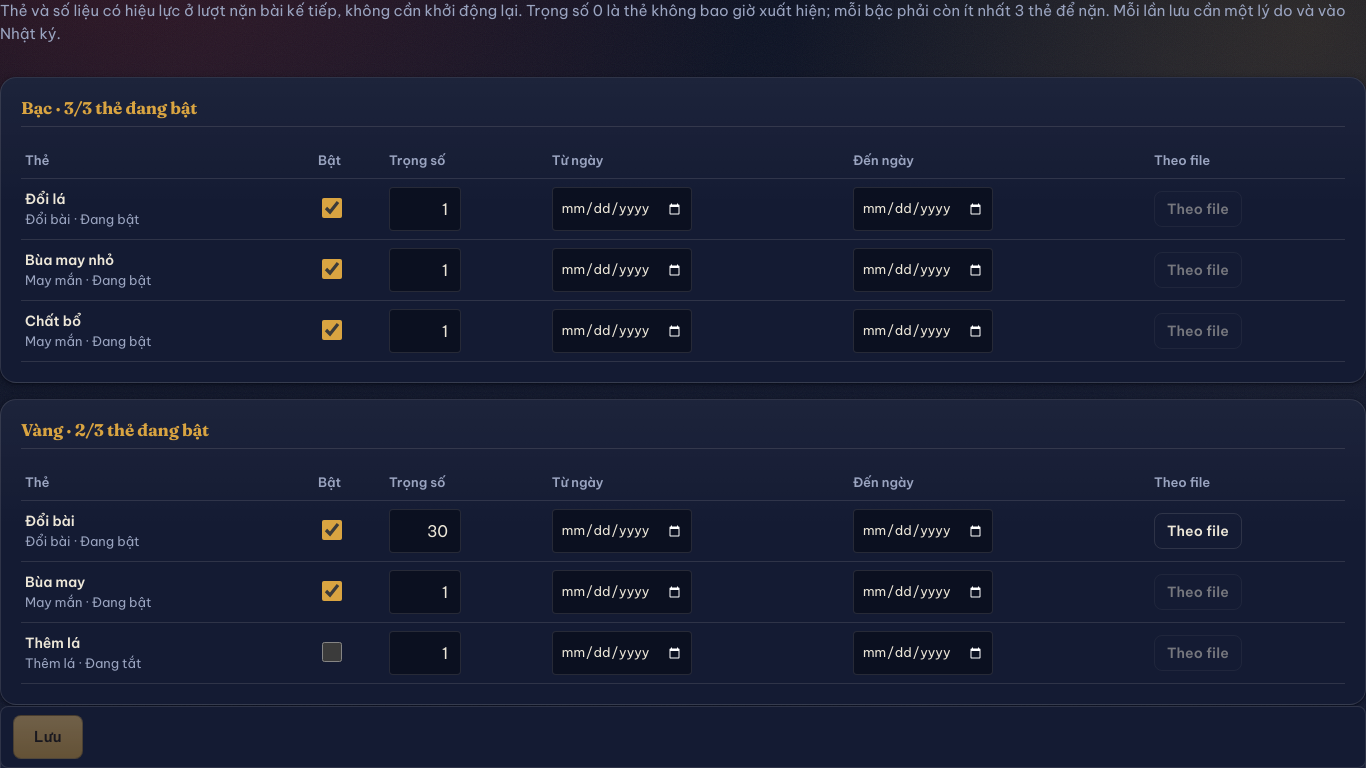
it: ChaosTab › keeps Lưu off until something is edited, then sends only the changed cards, whole, under one reason
Expected: the button "Lưu" is disabled, [13, 715, 82, 759]
Replace the text in the field named "Trọng số của Đổi lá" with "40" at (425, 209), box [389, 187, 461, 231]
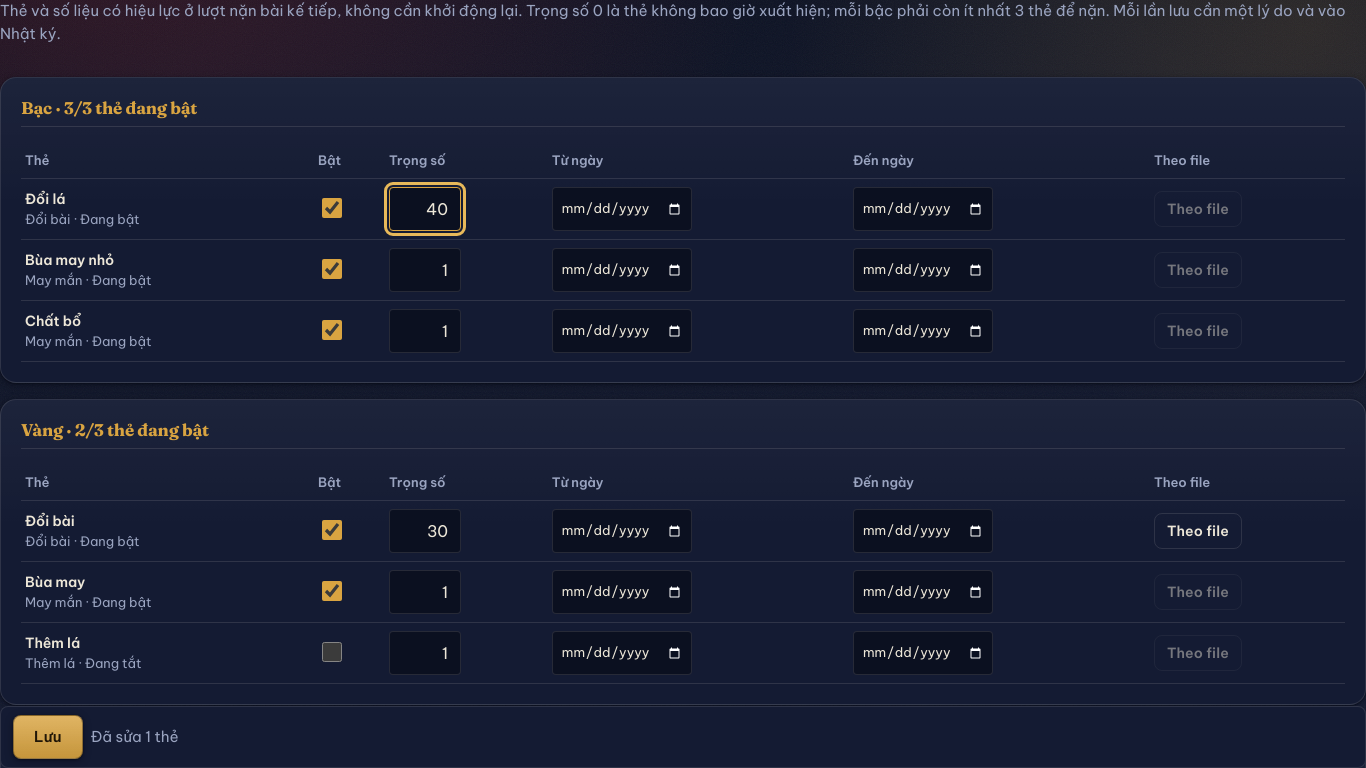
Click the checkbox named "Bật thẻ Bùa may nhỏ" at (332, 268), box [322, 258, 342, 278]
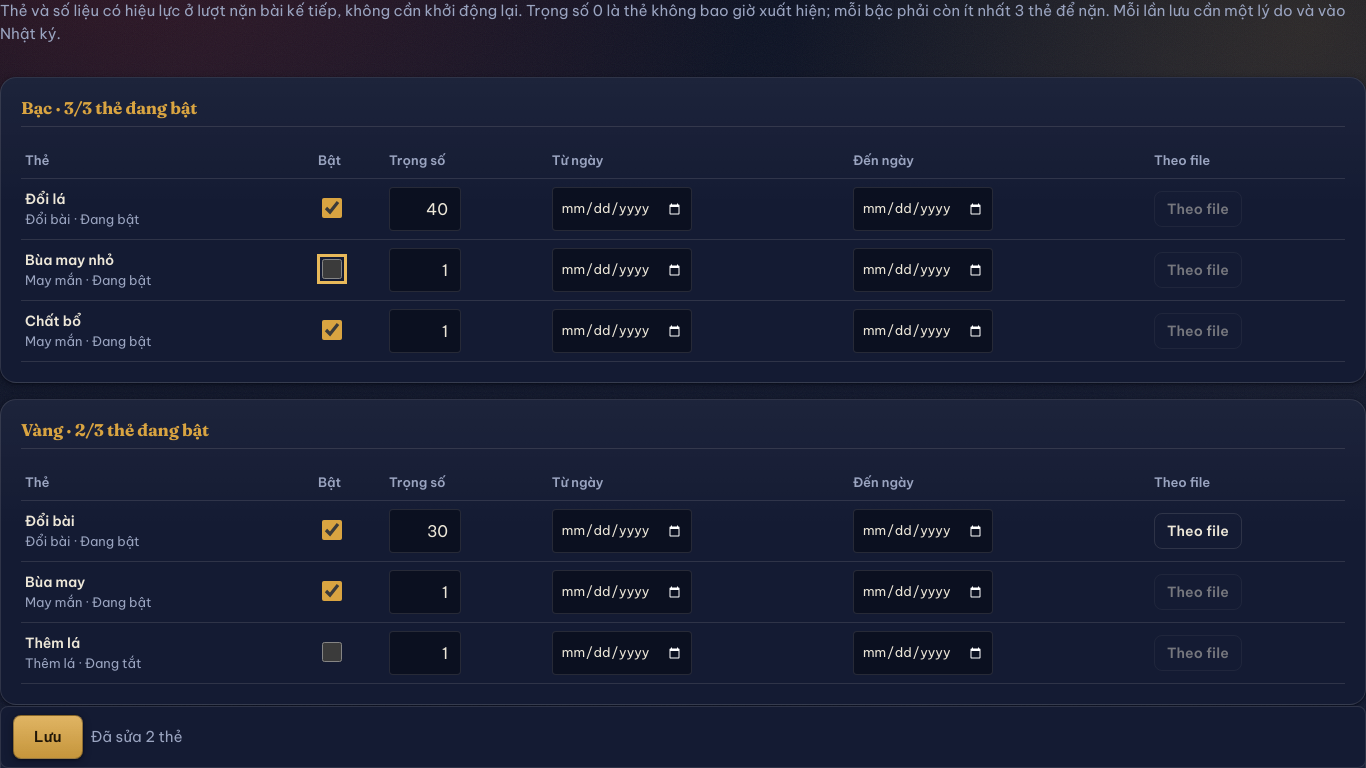
Result: the text "Đã sửa 2 thẻ" is shown at [90, 726, 183, 748]
Click the button "Lưu" at (48, 737), box [13, 715, 82, 759]
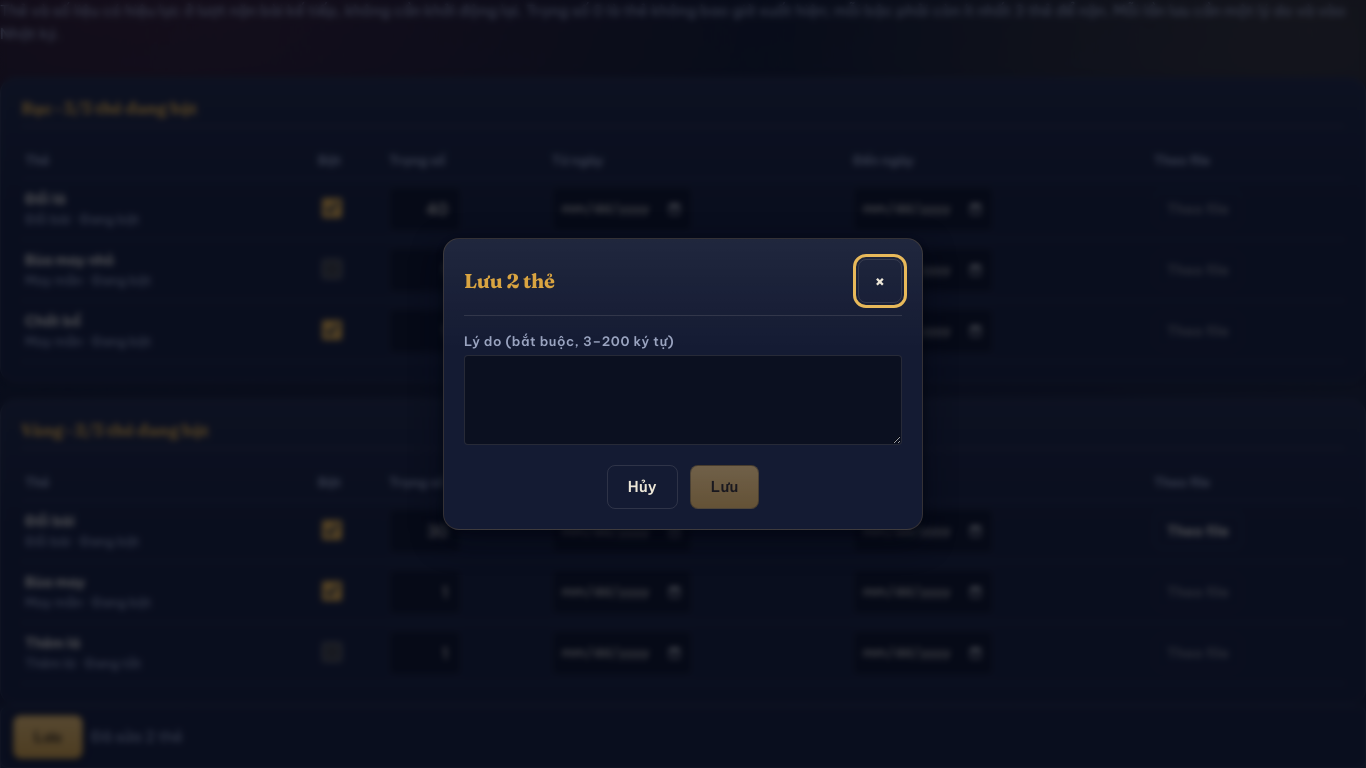
Type "mùa Tết đổi trọng số" into the text box labelled "Lý do (bắt buộc, 3–200 ký tự)" at (683, 400), box [464, 355, 902, 445]
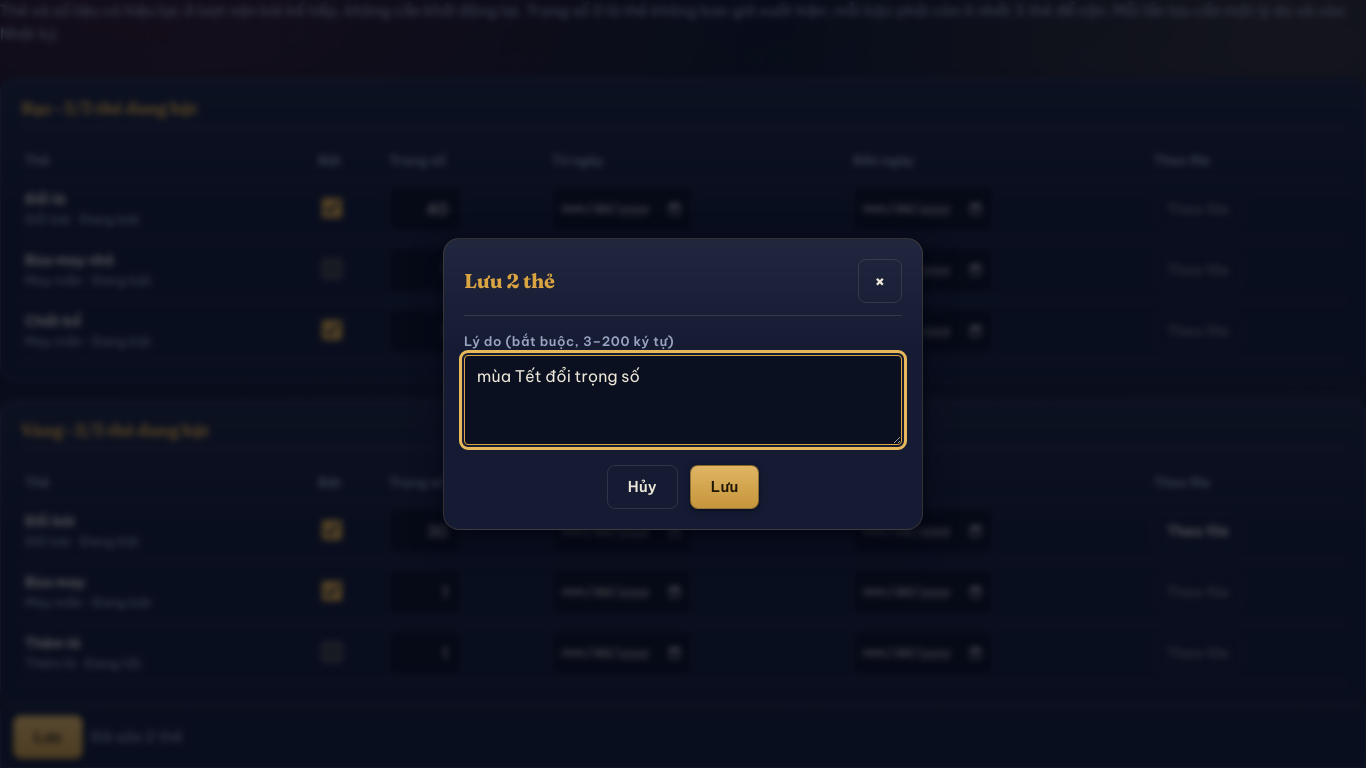
Click the button "Lưu" at (725, 487), box [690, 465, 759, 509]
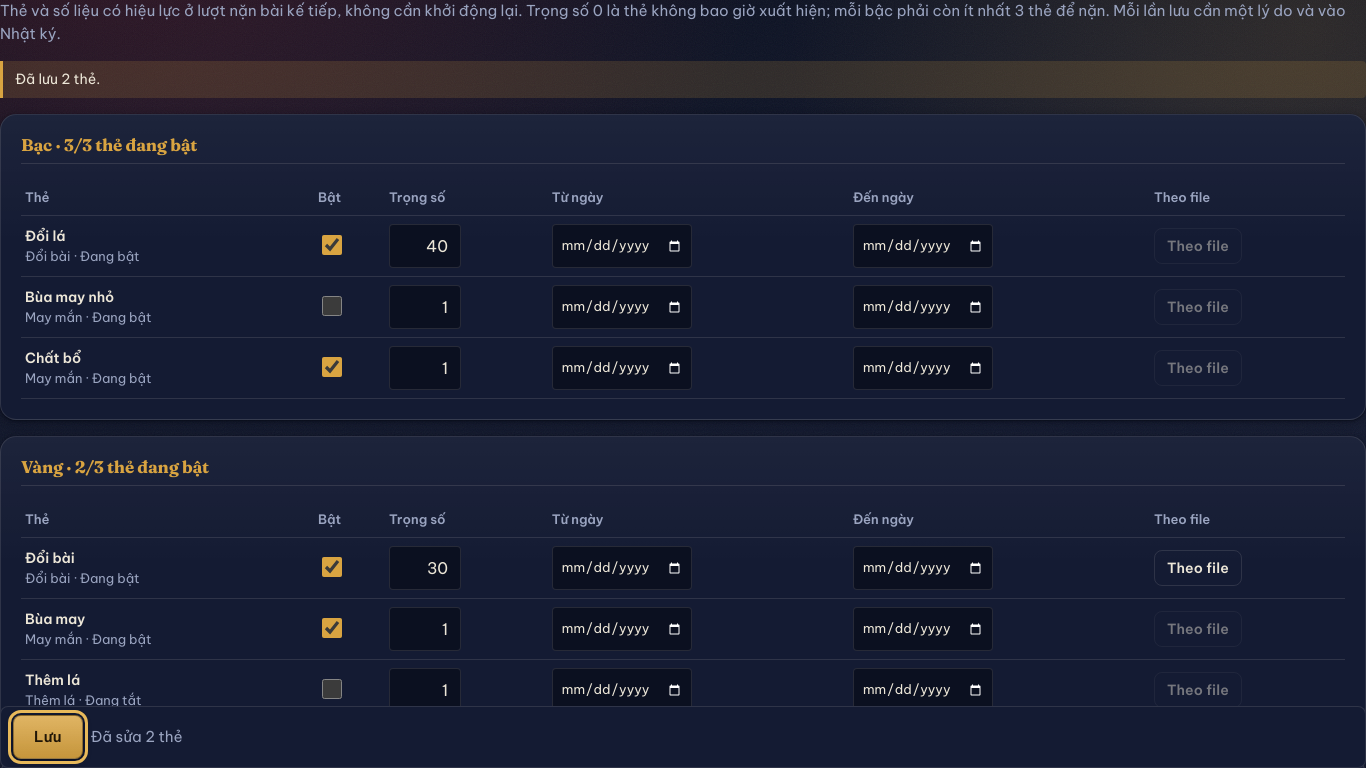
Result: the text "Đã lưu 2 thẻ." is shown at [0, 61, 1365, 98]
